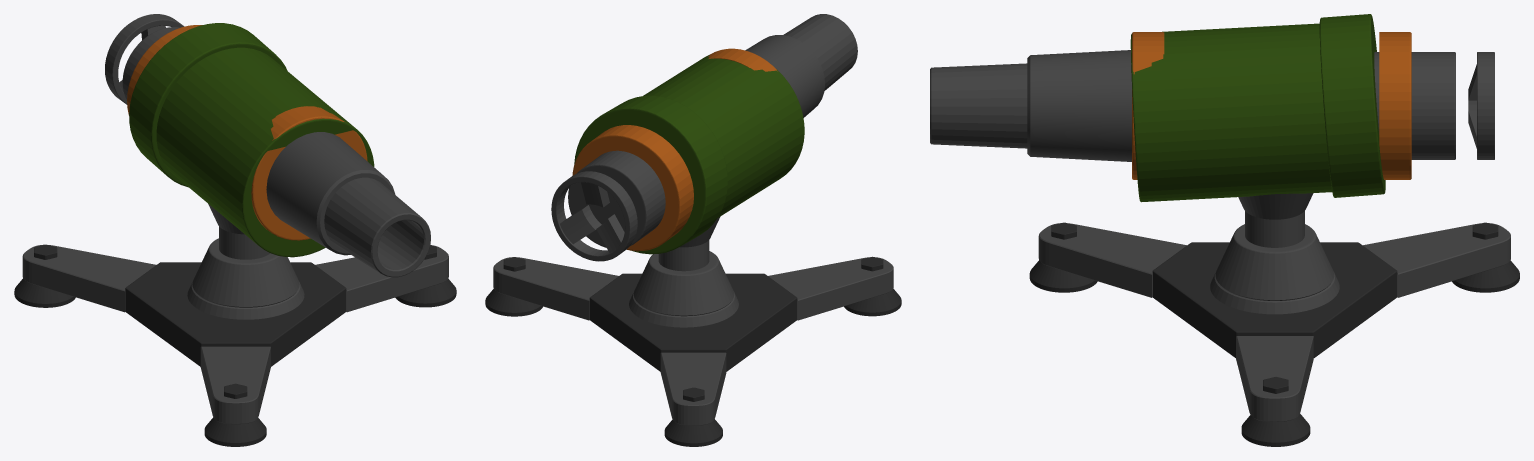
File: torreta a.fbx
3 renders of one model, left to right at view 1: azimuth 30°, elevation 25°; view 2: azimuth 150°, elevation 25°; view 3: azimuth 270°, elevation 25°, orthographic. The views are drawn at different scales.
Visible parts, largest first — view 1: Cylinder058; view 2: Cylinder058; view 3: Cylinder058.
Part boxes in pixels (bbox=[...]): Cylinder058: bbox=[14, 14, 456, 446]; Cylinder058: bbox=[485, 14, 901, 446]; Cylinder058: bbox=[930, 14, 1519, 446].
Size of the model in its own units: 5.87 by 4.67 by 7.98.
